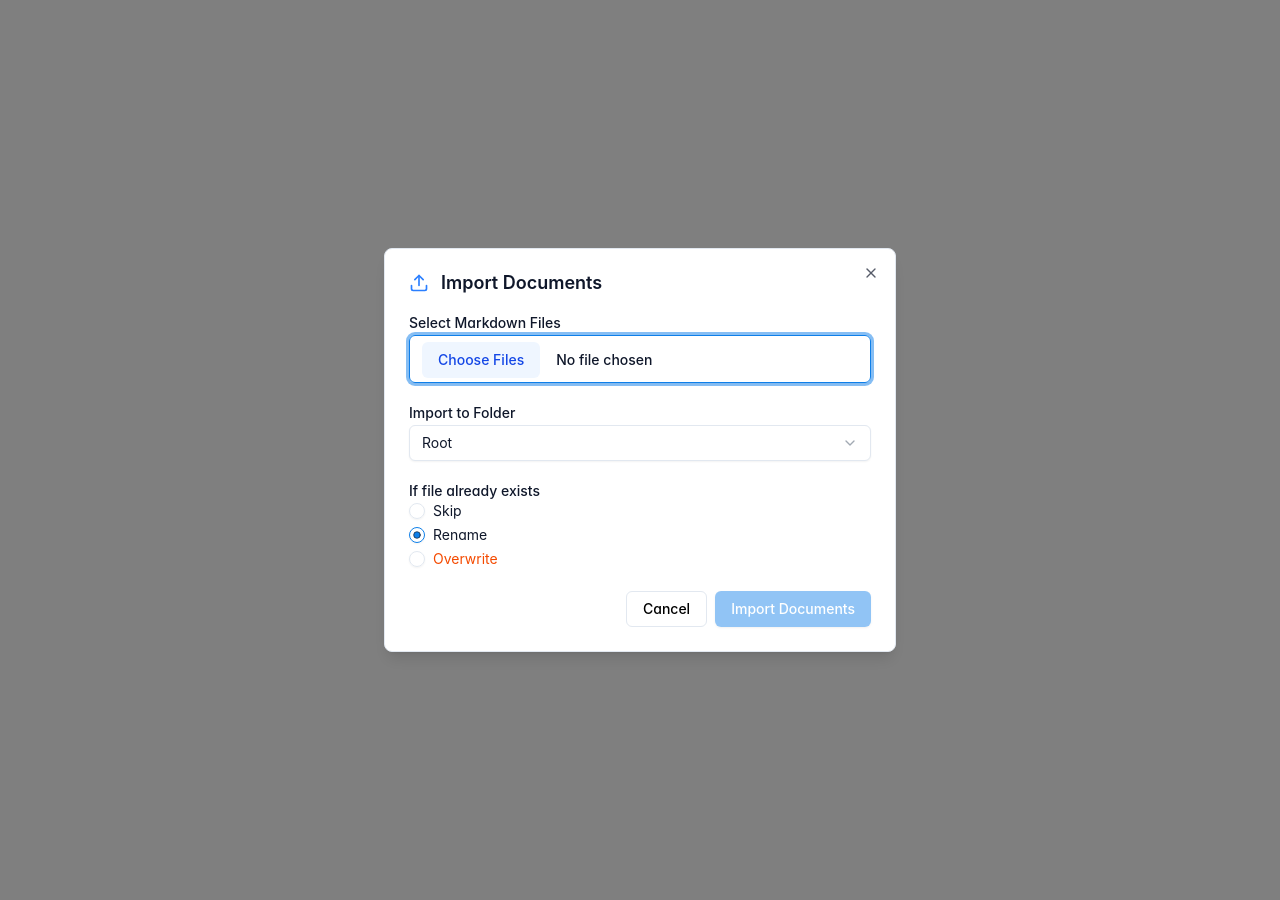
Scenario: ImportDocumentsModal › lists the folder tree as import targets
Click the button named "Import to Folder" at (437, 442), box [409,425,871,461]
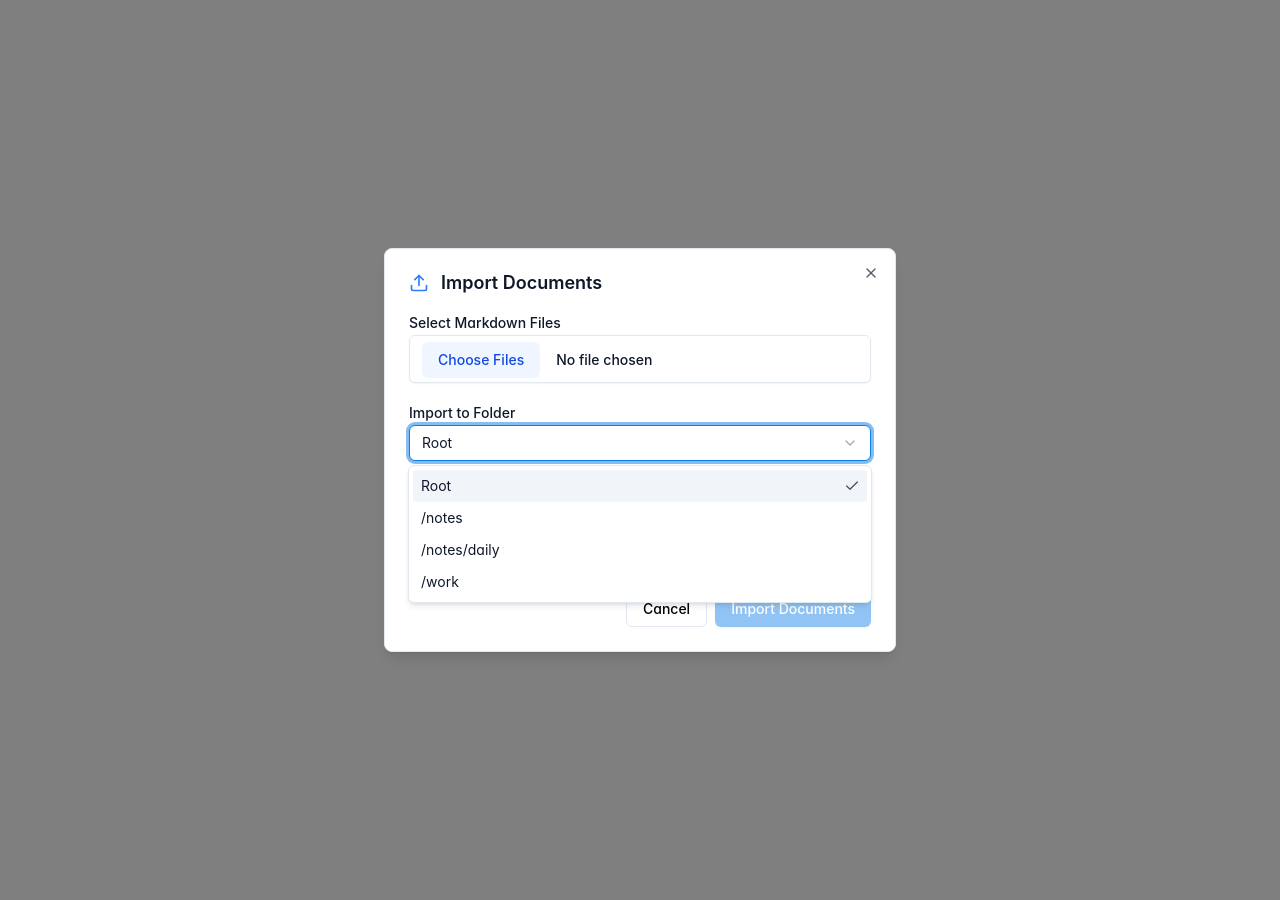
Press Escape
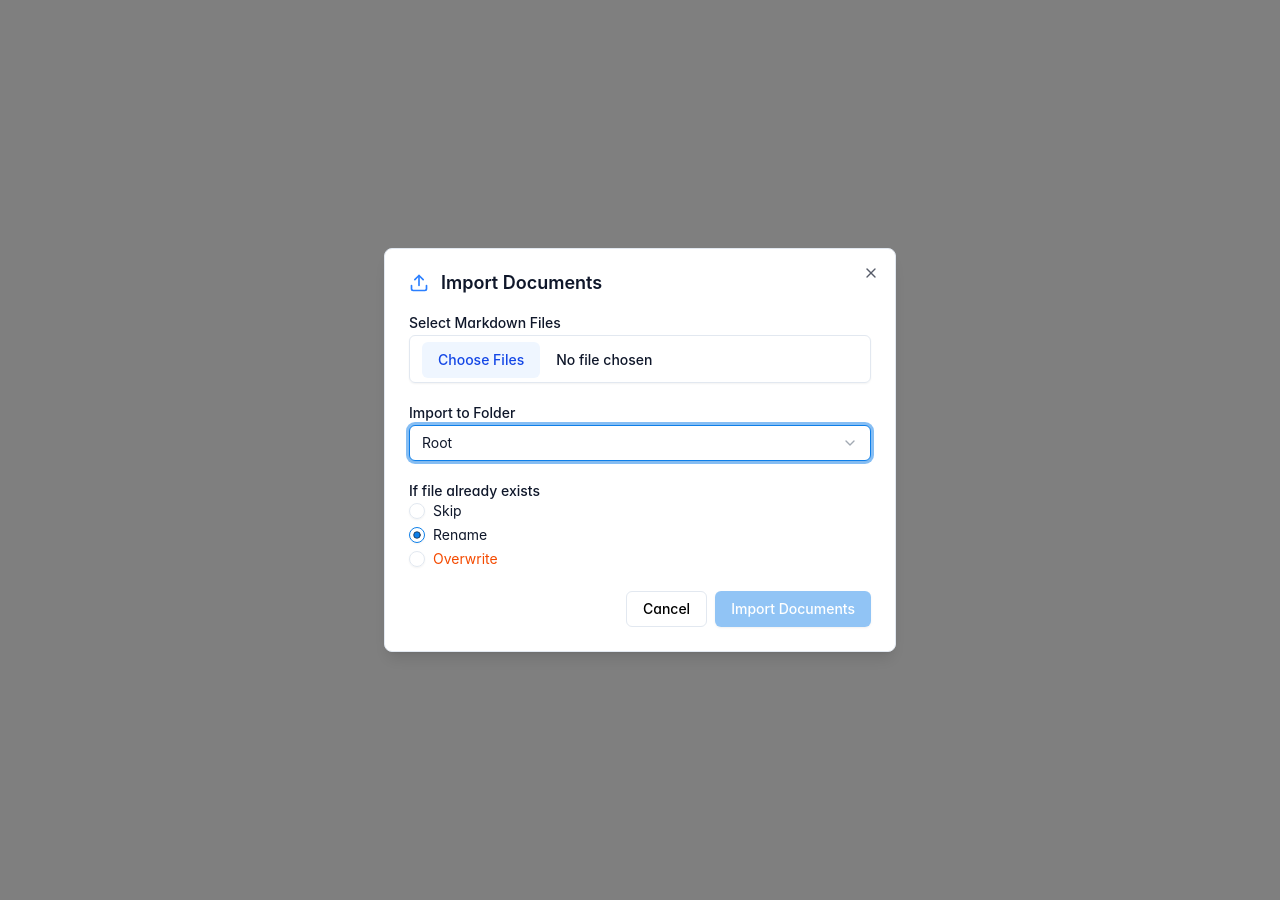
Expected: the dialog with test id "import-documents-modal" is shown, [384,248,896,652]
Now the list is gone
